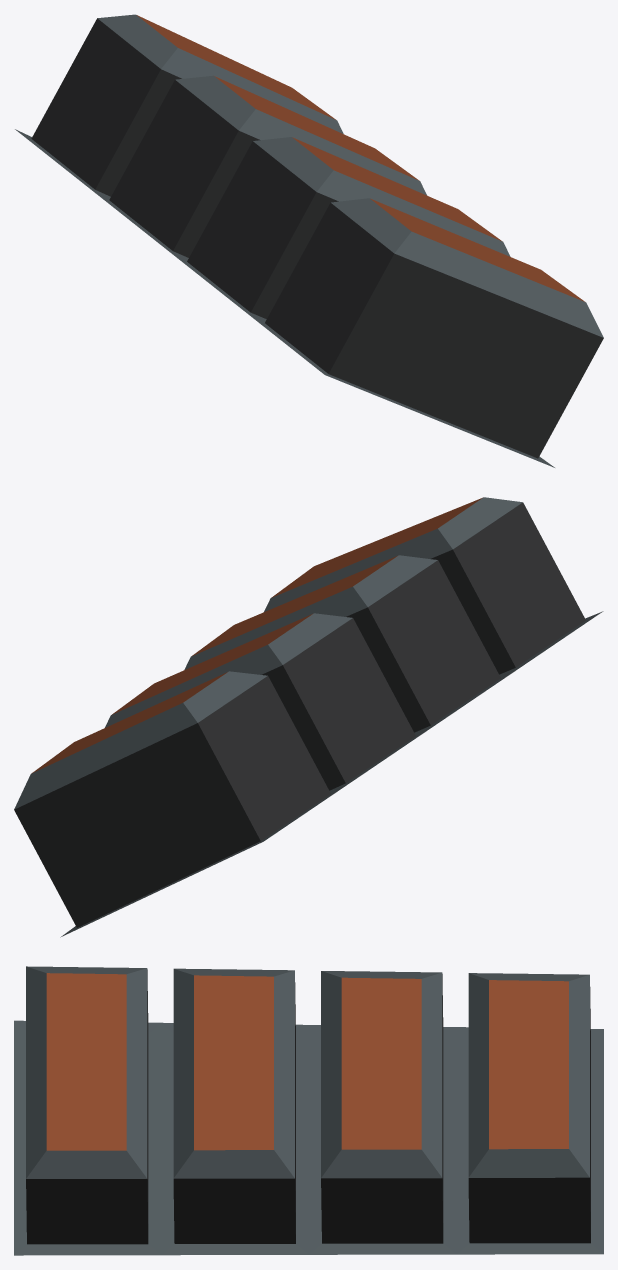
File: Battery Upgrade #1.fbx
3 renders of one model, top to bottom at view 1: azimuth 30°, elevation 25°; view 2: azimuth 150°, elevation 25°; view 3: azimuth 270°, elevation 25°, orthographic. The views are drawn at different scales.
Parts seen in each view (by area): view 1: Battery Upgrade 1; view 2: Battery Upgrade 1; view 3: Battery Upgrade 1.
Boxes of the visible parts, bbox=[...] form: Battery Upgrade 1: bbox=[15, 14, 603, 467]; Battery Upgrade 1: bbox=[14, 497, 603, 937]; Battery Upgrade 1: bbox=[14, 966, 603, 1255].
Size of the model in its own units: 44.87 by 38.16 by 89.74.
